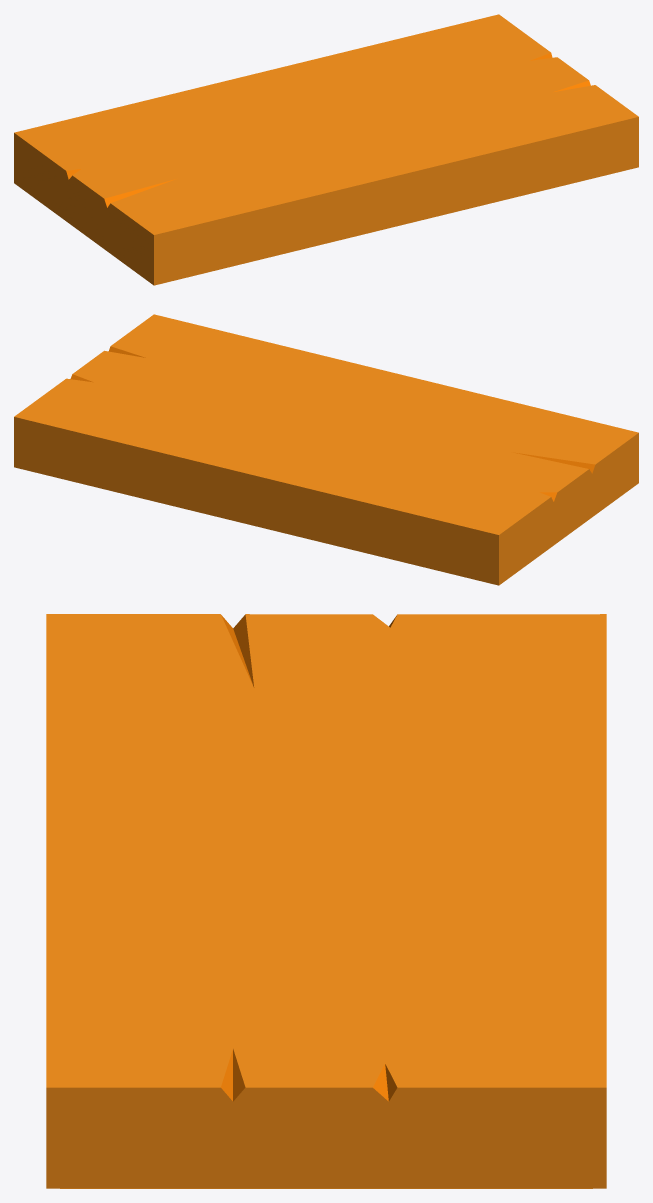
File: Counter_Top_03_D_C02.fbx
3 renders of one model, top to bottom at view 1: azimuth 30°, elevation 25°; view 2: azimuth 150°, elevation 25°; view 3: azimuth 270°, elevation 25°, orthographic. The views are drawn at different scales.
Visible parts, largest first — view 1: Counter_Top_03_D_C02; view 2: Counter_Top_03_D_C02; view 3: Counter_Top_03_D_C02.
Part boxes in pixels (<box>): Counter_Top_03_D_C02: <box>14,14,638,285</box>; Counter_Top_03_D_C02: <box>14,314,638,585</box>; Counter_Top_03_D_C02: <box>46,614,606,1188</box>.
Size of the model in its own units: 200 by 21.09 by 100.
